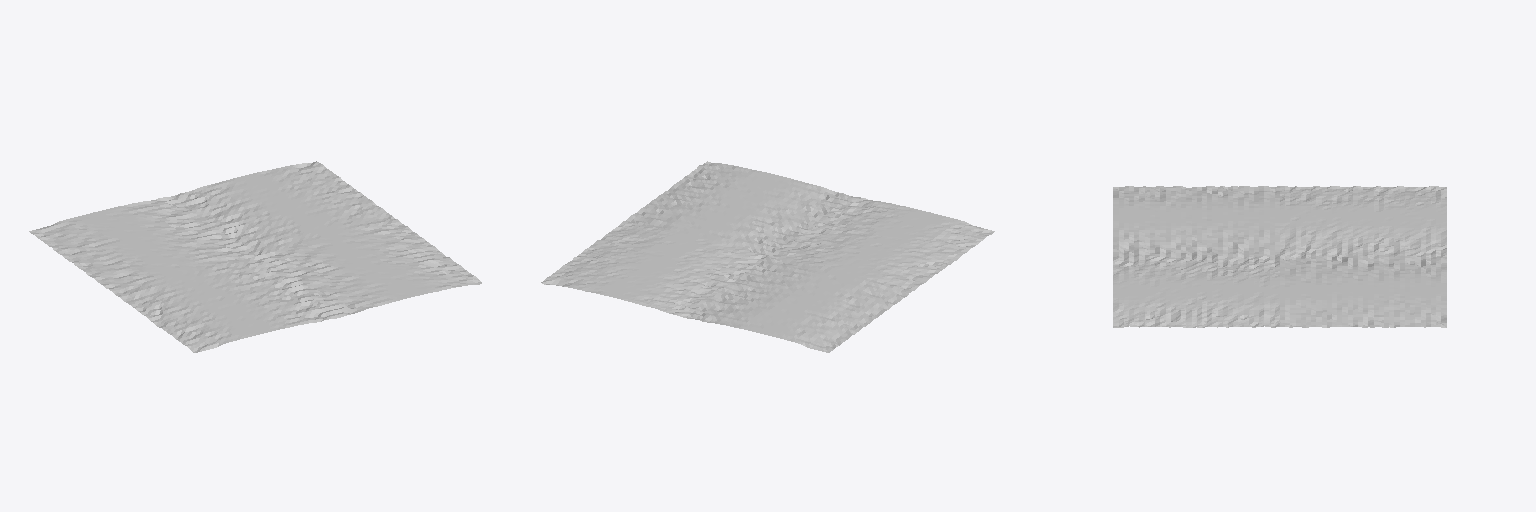
Rendered from silver high.obj.
3 views of the same model, side by side, from view 1: azimuth 30°, elevation 25°; view 2: azimuth 150°, elevation 25°; view 3: azimuth 270°, elevation 25° (orthographic).
Parts seen in each view (by area): view 1: silver_height_Plane.011; view 2: silver_height_Plane.011; view 3: silver_height_Plane.011.
Boxes of the visible parts, box(x1,y1,x2,y2) form: silver_height_Plane.011: box(29, 161, 481, 352); silver_height_Plane.011: box(541, 161, 994, 352); silver_height_Plane.011: box(1113, 186, 1446, 327).
Bounding box in the file's own units: 2 × 0.025 × 2.